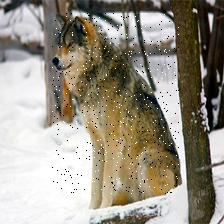WOLF: (52, 14, 179, 195)
